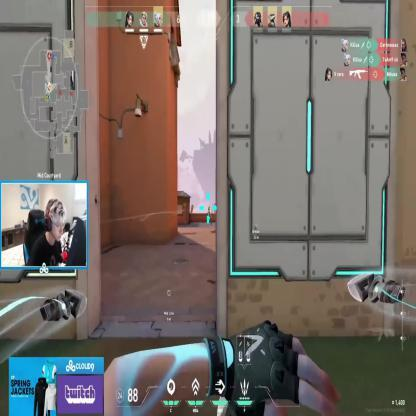enemy: (207, 206, 212, 225)
enemy_head: (208, 206, 210, 211)
